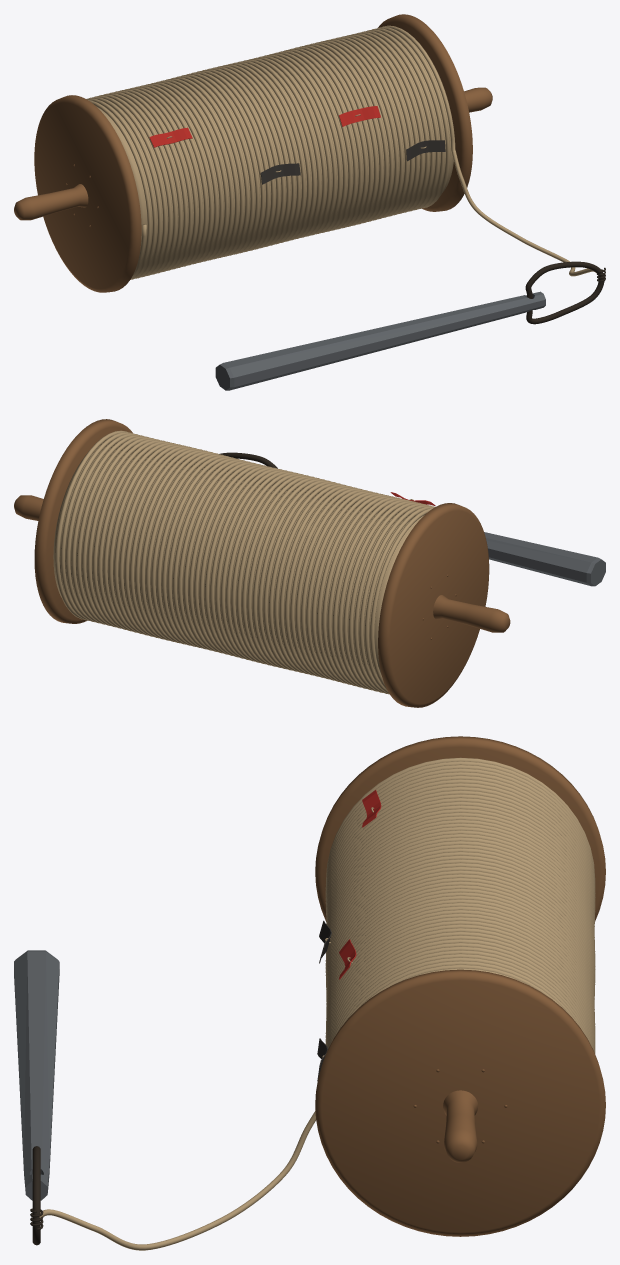
Rendered from NEW684_SoundingLine_LOD0_v001.glb.
3 renders of one model, top to bottom at view 1: azimuth 30°, elevation 25°; view 2: azimuth 150°, elevation 25°; view 3: azimuth 270°, elevation 25°, orthographic. The views are drawn at different scales.
Visible parts, largest first — view 1: Continuous_marked_sounding_line, Wood_flange_-1, Concealed_winding_bulk, Tapered_octagonal_sounding_lead, Wood_flange_1, Reel_shaft_handles, Served_lead_strop, Cloth_depth_marker_02, Cloth_depth_marker_01; view 2: Continuous_marked_sounding_line, Wood_flange_-1, Concealed_winding_bulk, Wood_flange_1, Tapered_octagonal_sounding_lead, Reel_shaft_handles; view 3: Wood_flange_1, Continuous_marked_sounding_line, Tapered_octagonal_sounding_lead, Wood_flange_-1, Reel_shaft_handles, Served_lead_strop.
Part boxes in pixels (<box>): Continuous_marked_sounding_line: <box>86,25,596,279</box>; Wood_flange_-1: <box>34,95,141,292</box>; Concealed_winding_bulk: <box>97,39,453,260</box>; Tapered_octagonal_sounding_lead: <box>215,291,545,390</box>; Wood_flange_1: <box>378,14,472,211</box>; Reel_shaft_handles: <box>14,87,492,220</box>; Served_lead_strop: <box>525,261,604,324</box>; Cloth_depth_marker_02: <box>339,106,380,126</box>; Cloth_depth_marker_01: <box>260,163,300,184</box>; Continuous_marked_sounding_line: <box>55,430,435,694</box>; Wood_flange_-1: <box>378,503,489,707</box>; Concealed_winding_bulk: <box>53,442,424,674</box>; Wood_flange_1: <box>34,419,132,623</box>; Tapered_octagonal_sounding_lead: <box>484,532,605,586</box>; Reel_shaft_handles: <box>14,495,510,632</box>; Wood_flange_1: <box>315,969,605,1236</box>; Continuous_marked_sounding_line: <box>39,757,595,1250</box>; Tapered_octagonal_sounding_lead: <box>14,950,59,1200</box>; Wood_flange_-1: <box>315,736,605,921</box>; Reel_shaft_handles: <box>443,1090,478,1162</box>; Served_lead_strop: <box>32,1146,40,1245</box>.
Bounding box in the file's own units: 0.8 × 0.3023 × 0.6006.
